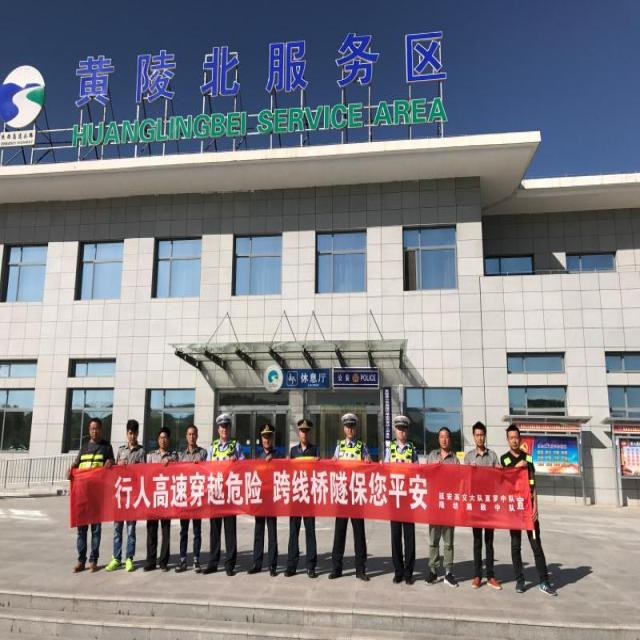non-fight: (380, 415, 426, 586), (66, 415, 111, 572), (326, 427, 372, 580), (463, 418, 501, 589), (424, 426, 462, 586), (142, 428, 176, 573)
